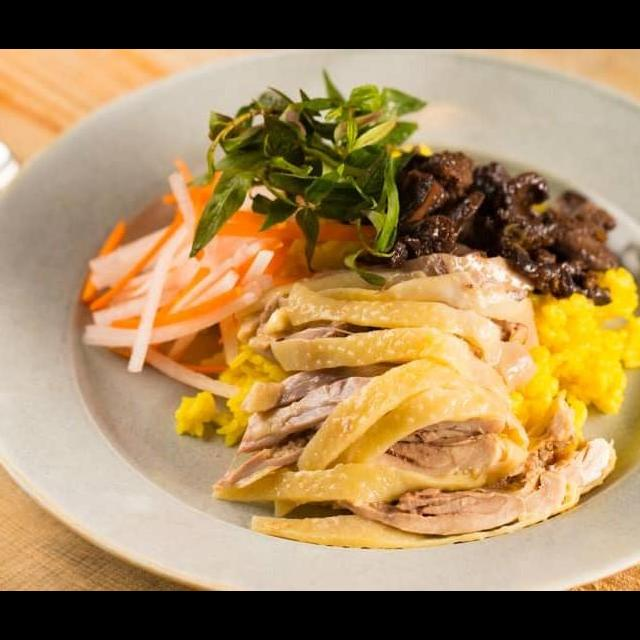com: (494, 266, 640, 442), (168, 341, 294, 453)
rau ram: (184, 61, 433, 292)
thit ga: (210, 246, 619, 552)
